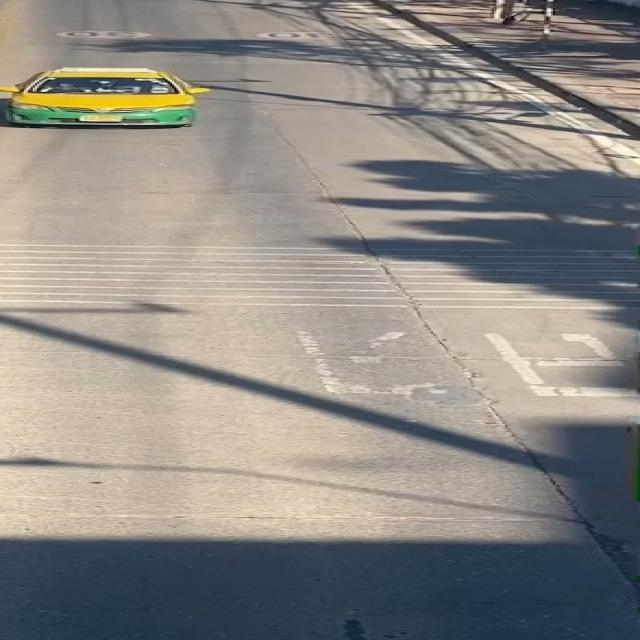car: (0, 54, 226, 134)
